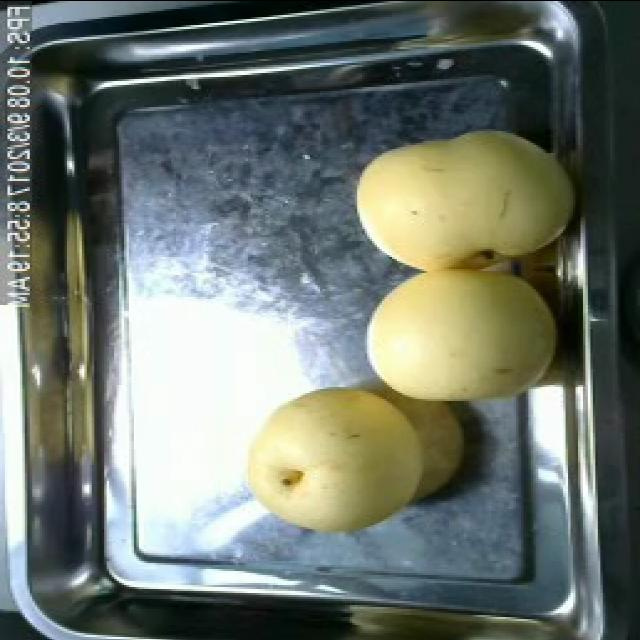Fruit: (348, 118, 580, 278), (228, 376, 436, 544), (357, 260, 568, 410)
